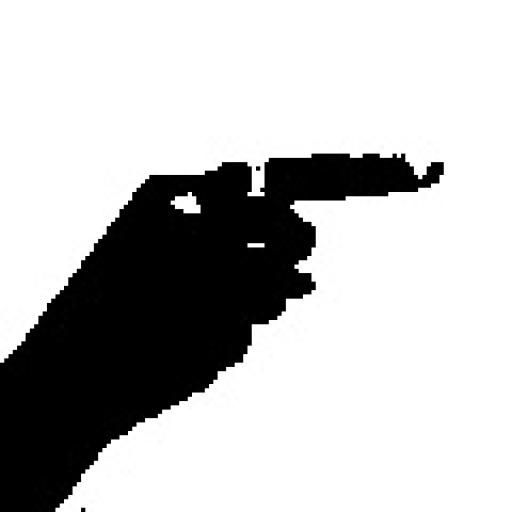index_right: (0, 150, 444, 356)
